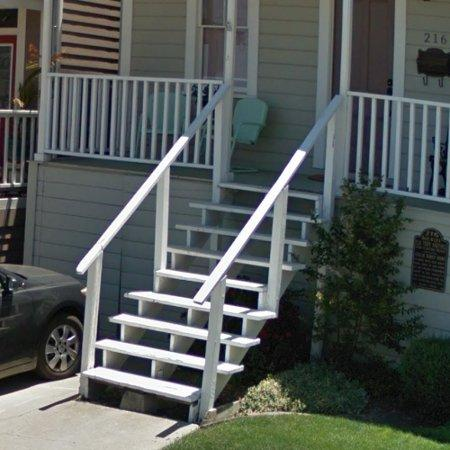stairs: (85, 183, 268, 422), (218, 191, 316, 396)
